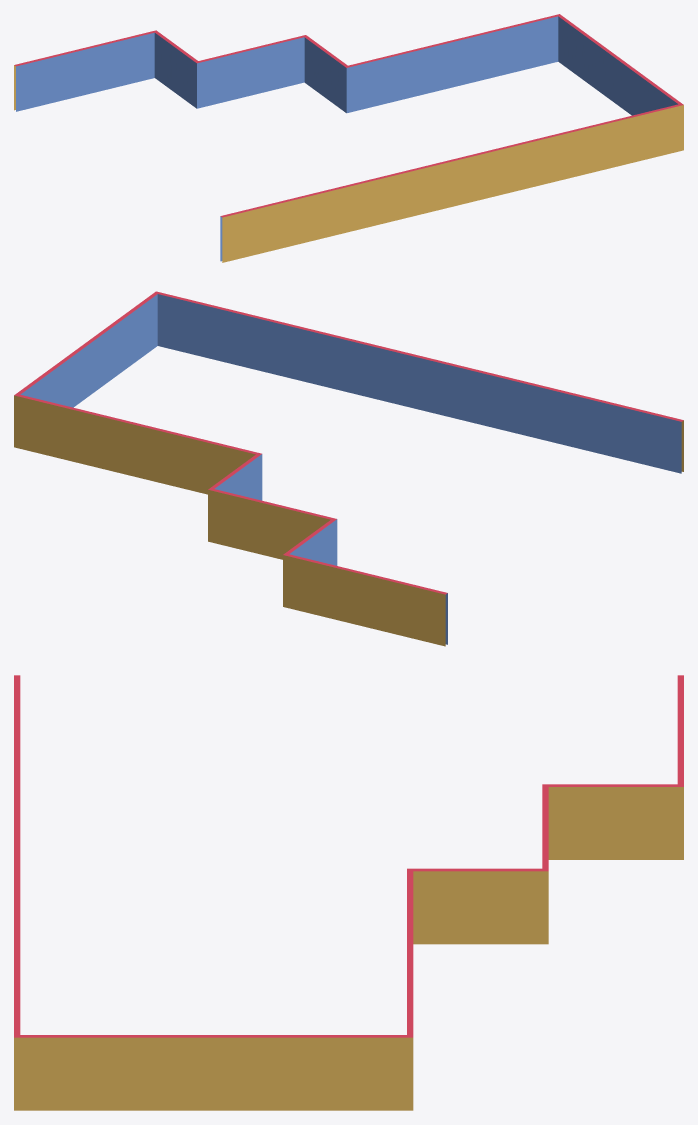
Rendered from ParedesPablo23.fbx.
3 renders of one model, top to bottom at view 1: azimuth 30°, elevation 25°; view 2: azimuth 150°, elevation 25°; view 3: azimuth 270°, elevation 25°, orthographic. The views are drawn at different scales.
Visible parts, largest first — view 1: Cube1.038, Cube1.023, Cube1.008, Cube1.012, Cube1.013, Cube1.026, Cube1.002, Cube1.029, Cube1.033, Cube1.016, Cube1.015, Cube1.003 (+24 smaller); view 2: Cube1.038, Cube1.023, Cube1.015, Cube1.001, Cube1.030, Cube1.033, Cube1.027, Cube1.003, Cube1.029, Cube1.002, Cube1.032, Cube1.034 (+22 smaller); view 3: Cube1.010, Cube1.009, Cube1.004, Cube1.005, Cube1.017, Cube1.018, Cube1.019, Cube1.020, Cube1.021, Cube1.022.
Boxes of the visible parts, <box> form: Cube1.038: <box>14,56,50,111</box>; Cube1.023: <box>644,104,680,159</box>; Cube1.008: <box>268,35,304,90</box>; Cube1.012: <box>383,48,419,103</box>; Cube1.013: <box>418,40,454,95</box>; Cube1.026: <box>540,129,576,184</box>; Cube1.002: <box>49,48,85,103</box>; Cube1.029: <box>436,155,472,210</box>; Cube1.033: <box>297,189,333,244</box>; Cube1.016: <box>522,15,558,69</box>; Cube1.015: <box>487,23,523,78</box>; Cube1.003: <box>118,31,154,86</box>; Cube1.038: <box>406,583,447,646</box>; Cube1.023: <box>157,292,199,355</box>; Cube1.015: <box>57,404,99,467</box>; Cube1.001: <box>326,564,367,626</box>; Cube1.030: <box>435,360,477,423</box>; Cube1.033: <box>554,389,595,452</box>; Cube1.027: <box>316,331,357,394</box>; Cube1.003: <box>287,554,328,617</box>; Cube1.029: <box>396,350,437,413</box>; Cube1.002: <box>366,573,407,636</box>; Cube1.032: <box>515,379,556,442</box>; Cube1.034: <box>594,399,635,461</box>; Cube1.010: <box>413,868,477,944</box>; Cube1.009: <box>478,868,542,944</box>; Cube1.004: <box>613,784,677,859</box>; Cube1.005: <box>548,784,612,859</box>; Cube1.017: <box>342,1035,406,1110</box>; Cube1.018: <box>278,1035,342,1110</box>; Cube1.019: <box>213,1035,277,1110</box>; Cube1.020: <box>149,1035,213,1110</box>; Cube1.021: <box>85,1035,149,1110</box>; Cube1.022: <box>20,1035,84,1110</box>.
Size of the model in its own units: 1330 by 125 by 1040.
